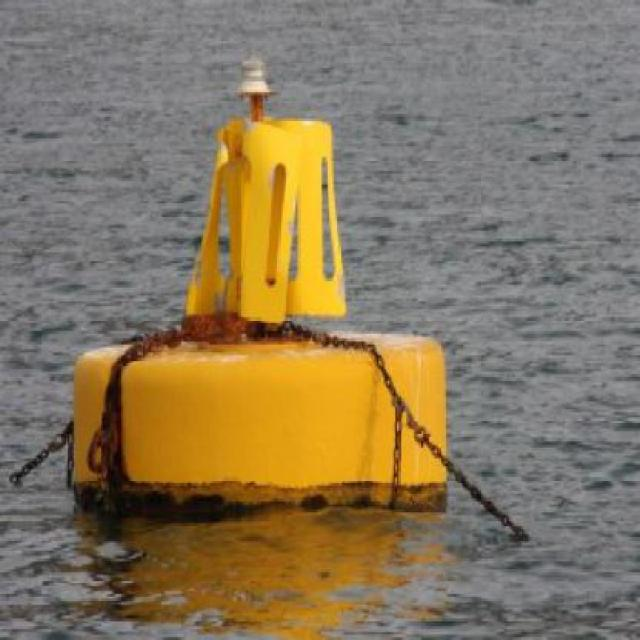buoy: (54, 33, 459, 527)
